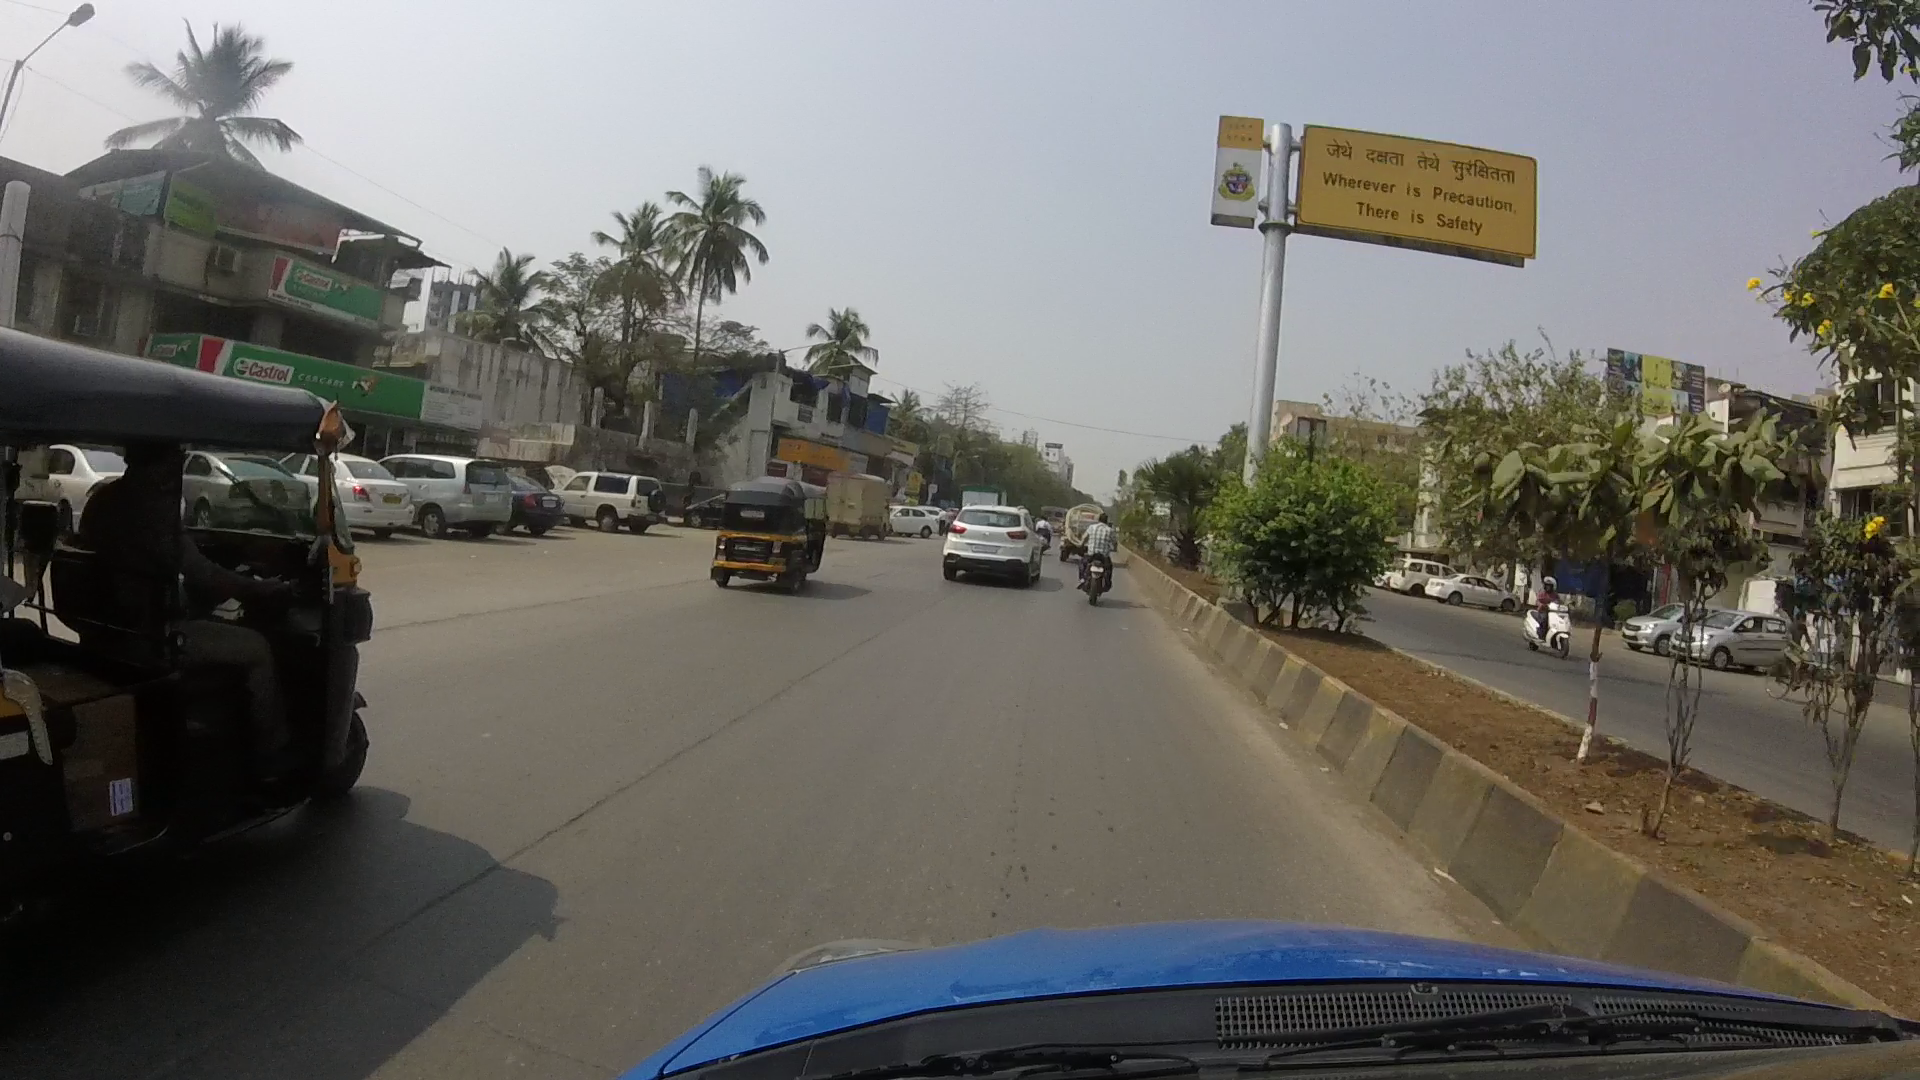bike/scooter: (1516, 570, 1580, 661), (1069, 512, 1124, 603)
car: (392, 444, 516, 542), (927, 491, 1046, 592), (554, 452, 669, 542), (1680, 609, 1815, 684), (185, 454, 316, 525), (313, 444, 415, 527), (1618, 588, 1705, 647), (513, 456, 553, 545)
rickshaw: (4, 330, 390, 884), (704, 459, 837, 591)
